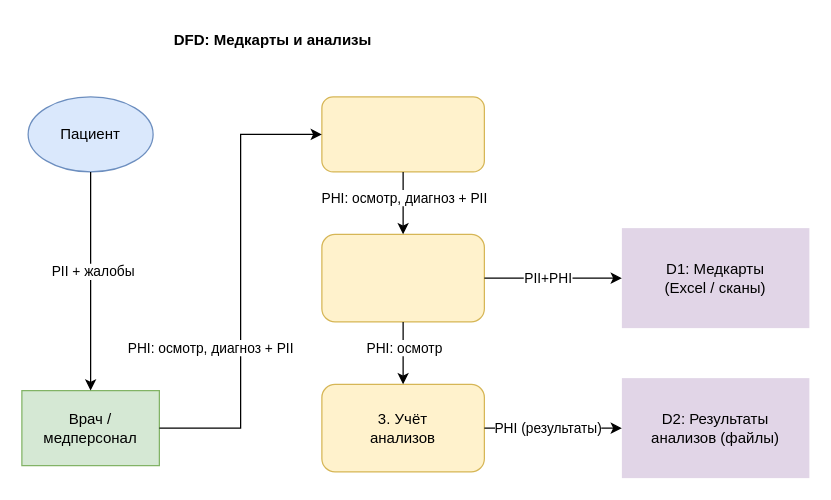
The diagram is 831 pixels wide and 500 high, and some of its shapes have lost their labels. The shapes that lost their labels are listed below. From the top down, each one's centre as x and y in pixels, then its label:
the point at 402,134: 1. Приём
the point at 402,277: 2. Ведение медкарты
